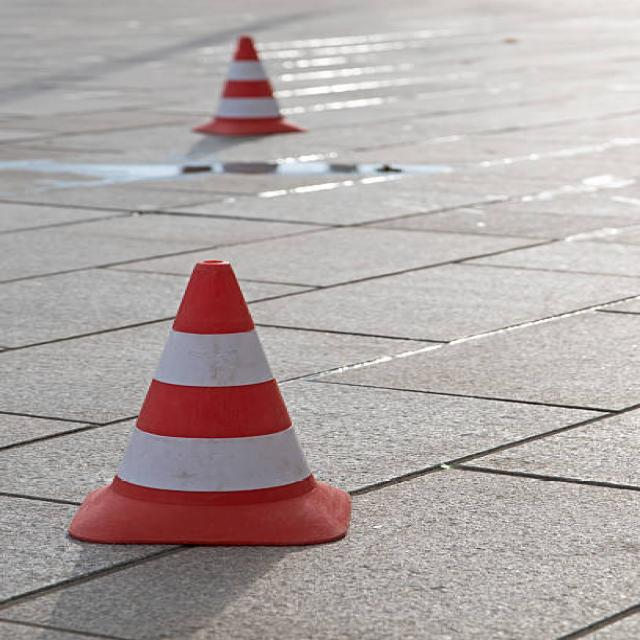Traffic Cone: (34, 244, 384, 573), (168, 21, 316, 152)
